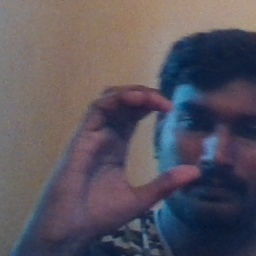C: (90, 77, 204, 200)
